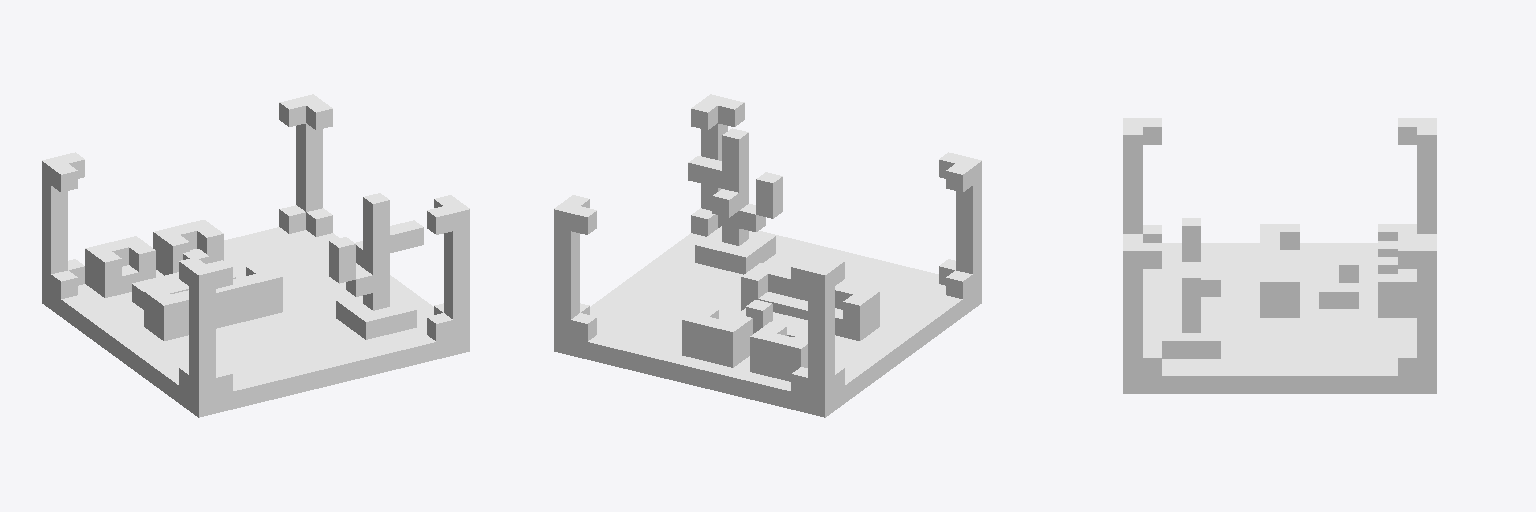
File: towar-6.obj
3 renders of one model, left to right at view 1: azimuth 30°, elevation 25°; view 2: azimuth 150°, elevation 25°; view 3: azimuth 270°, elevation 25°, orthographic.
Parts seen in each view (by area): view 1: towar-6; view 2: towar-6; view 3: towar-6.
Boxes of the visible parts, <box> form: towar-6: <box>42,94,469,417</box>; towar-6: <box>554,94,981,417</box>; towar-6: <box>1123,118,1436,393</box>.
Size of the model in its own units: 16 by 8 by 16.